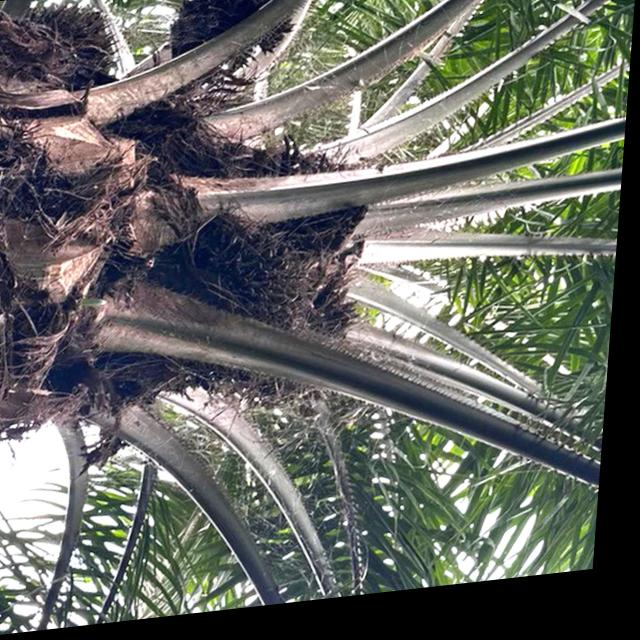unripe: (148, 209, 315, 411)
